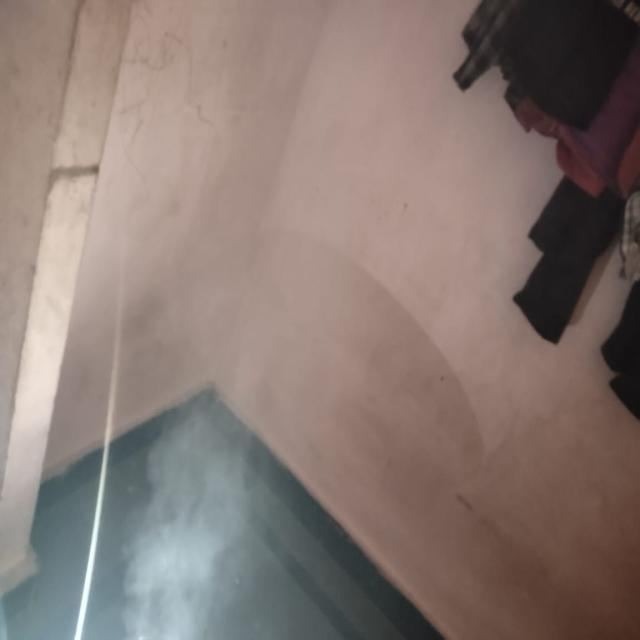smoke: (120, 354, 251, 640)
